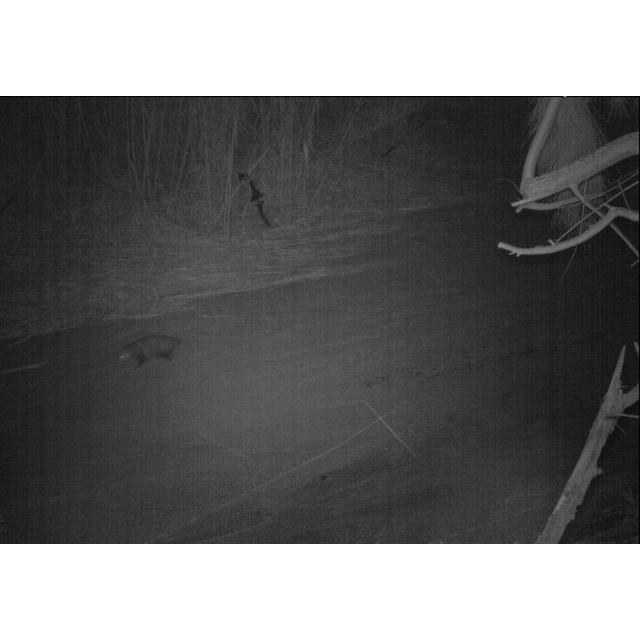animals: (110, 332, 184, 368)
